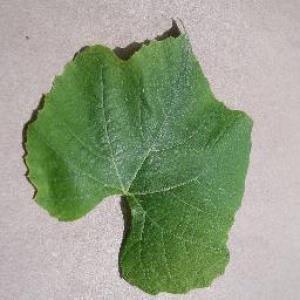Folha: (20, 16, 253, 296)
